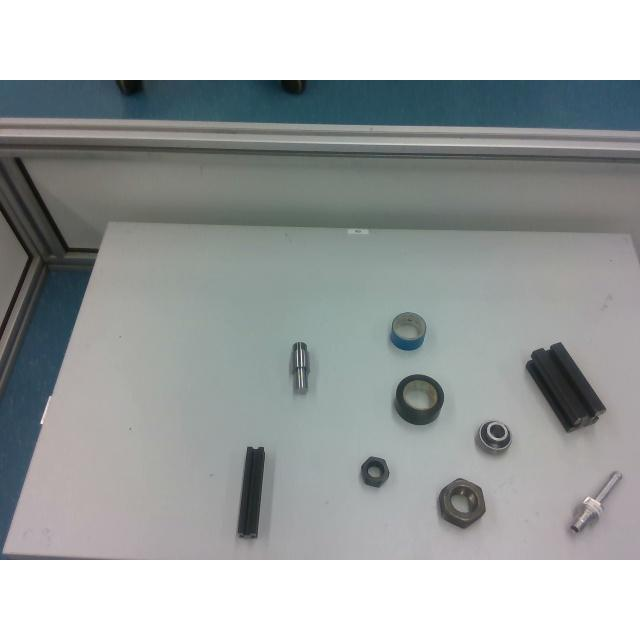Axis2: (291, 342, 307, 391)
Bearing2: (476, 420, 512, 456)
F20_20_B: (237, 447, 267, 538)
M20: (359, 456, 388, 486)
M30: (436, 478, 484, 526)
S40_40_B: (526, 341, 606, 433)
